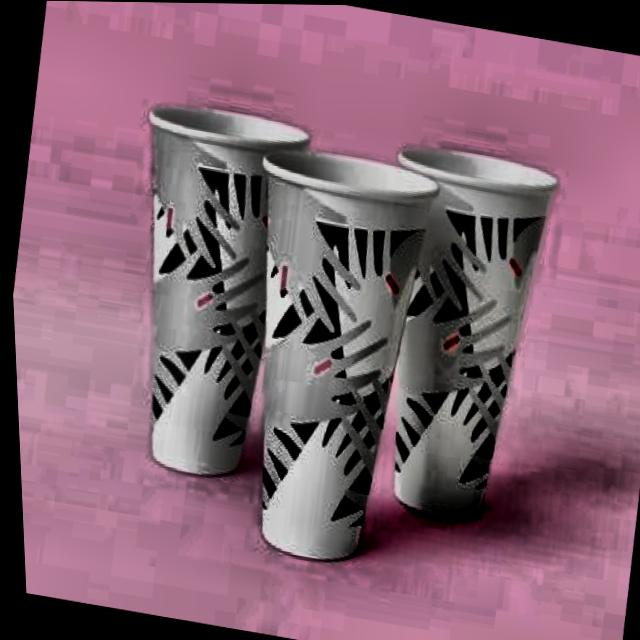Cup: (200, 126, 442, 587), (341, 104, 586, 548), (93, 86, 313, 494)
